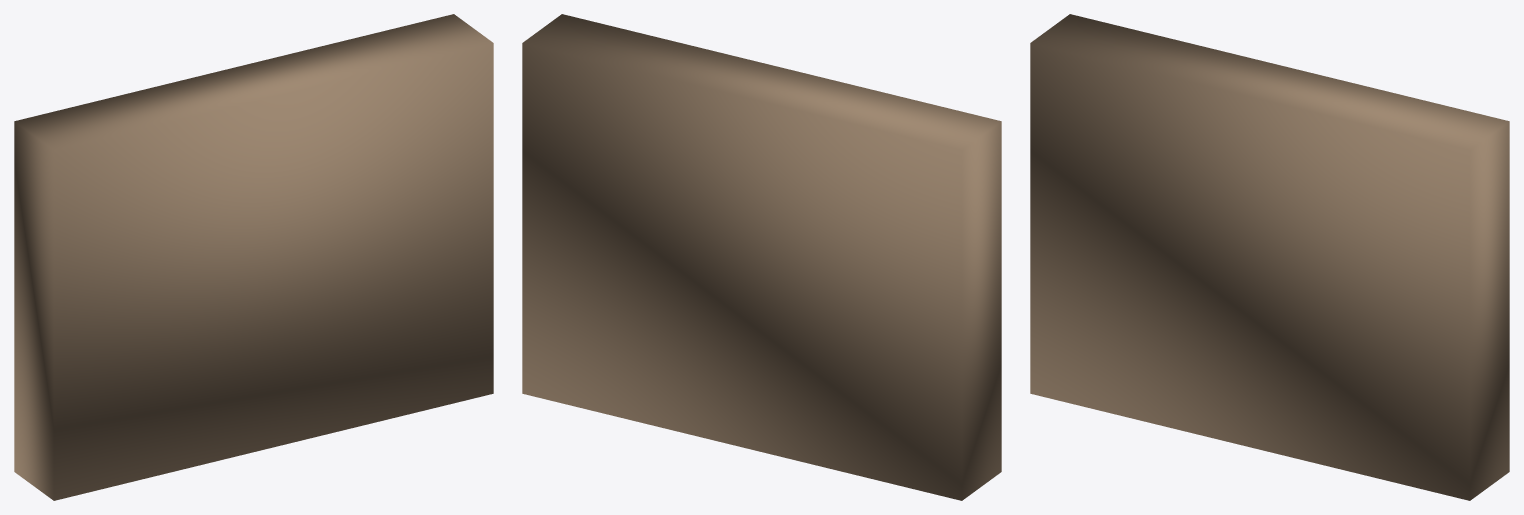
Rendered from back_bar_shelf__wide.glb.
The picture shows the model from 3 angles, left to right: view 1: azimuth 30°, elevation 25°; view 2: azimuth 150°, elevation 25°; view 3: azimuth 330°, elevation 25°; orthographic projection.
Visible parts, largest first — view 1: world; view 2: world; view 3: world.
Part boxes in pixels (bbox=[...]): world: bbox=[14, 14, 493, 500]; world: bbox=[522, 14, 1001, 500]; world: bbox=[1030, 14, 1509, 500].
Size of the model in its own units: 2.23 by 1.7 by 0.35.
